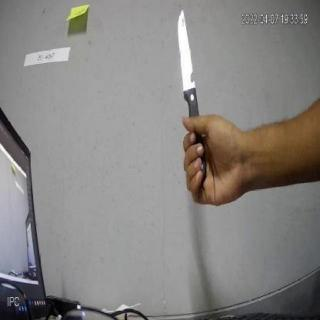knife: (170, 7, 206, 180)
